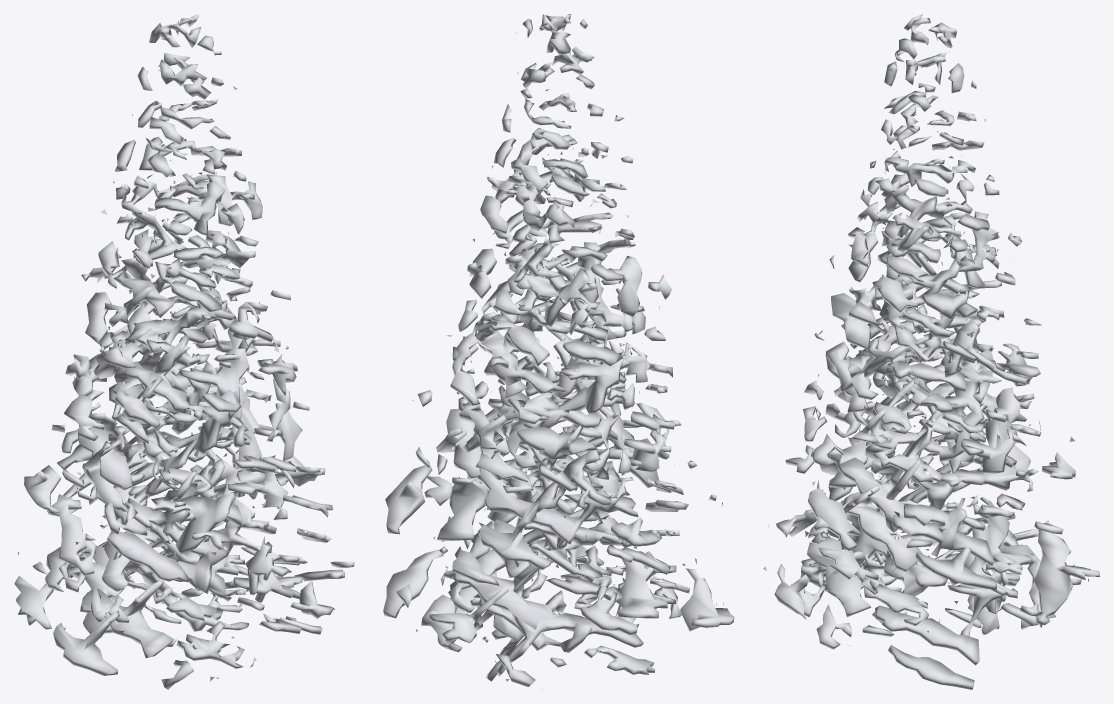
Rendered from CW_CardedAlpineFir_SnowCoverV2.fbx.
3 views of the same model, side by side, from view 1: azimuth 30°, elevation 25°; view 2: azimuth 150°, elevation 25°; view 3: azimuth 270°, elevation 25° (orthographic). The views are drawn at different scales.
Visible parts, largest first — view 1: CW_CardedAlpineFir_SnowCoverV2; view 2: CW_CardedAlpineFir_SnowCoverV2; view 3: CW_CardedAlpineFir_SnowCoverV2.
Boxes of the visible parts, x1=… form: CW_CardedAlpineFir_SnowCoverV2: x1=14, y1=14, x2=354, y2=689; CW_CardedAlpineFir_SnowCoverV2: x1=383, y1=14, x2=734, y2=689; CW_CardedAlpineFir_SnowCoverV2: x1=763, y1=14, x2=1099, y2=689.
Bounding box in the file's own units: 3.98 × 7.65 × 3.87.
